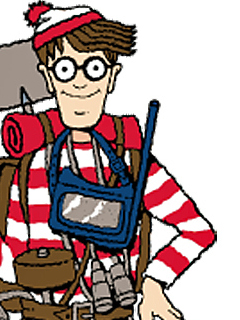waldo: (25, 1, 127, 129)
